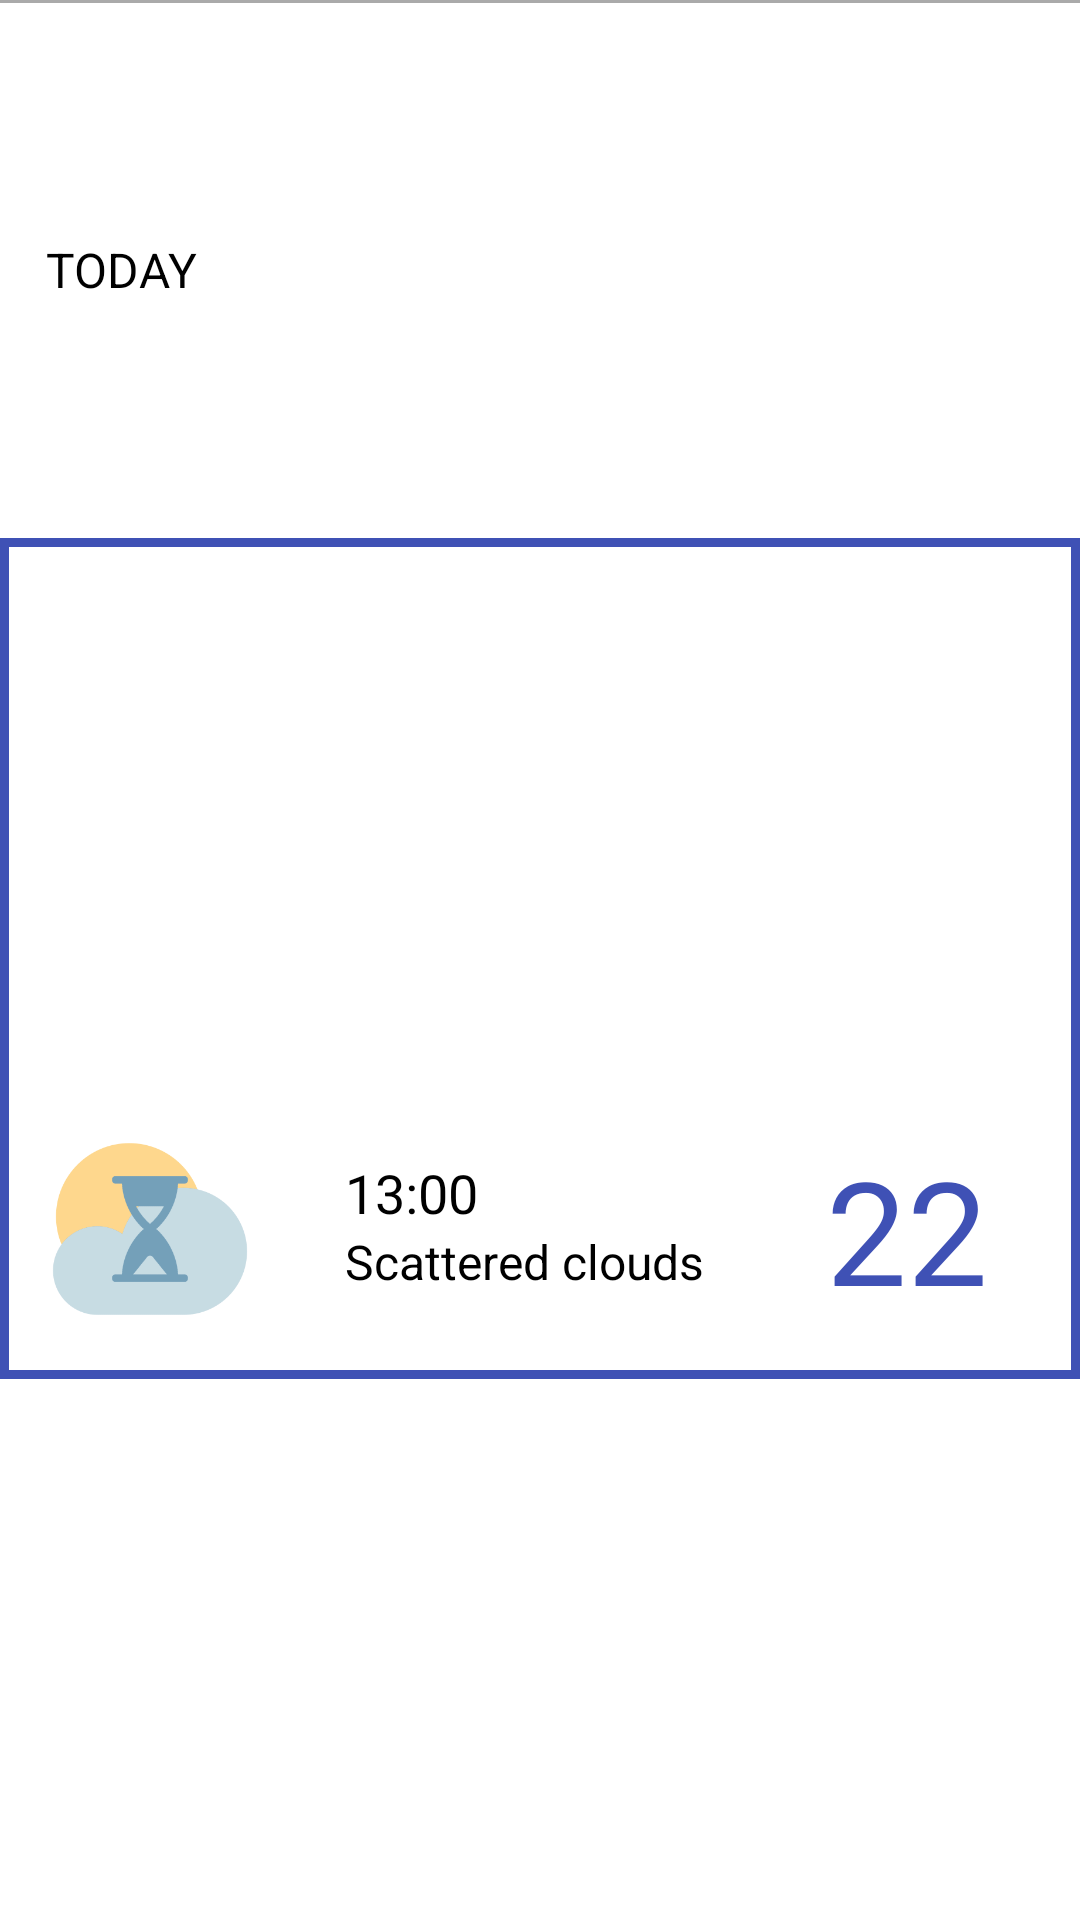

Named icons in this screenshot (1080px×1920px) and their centers, (x,y):
load: (150,1229)
